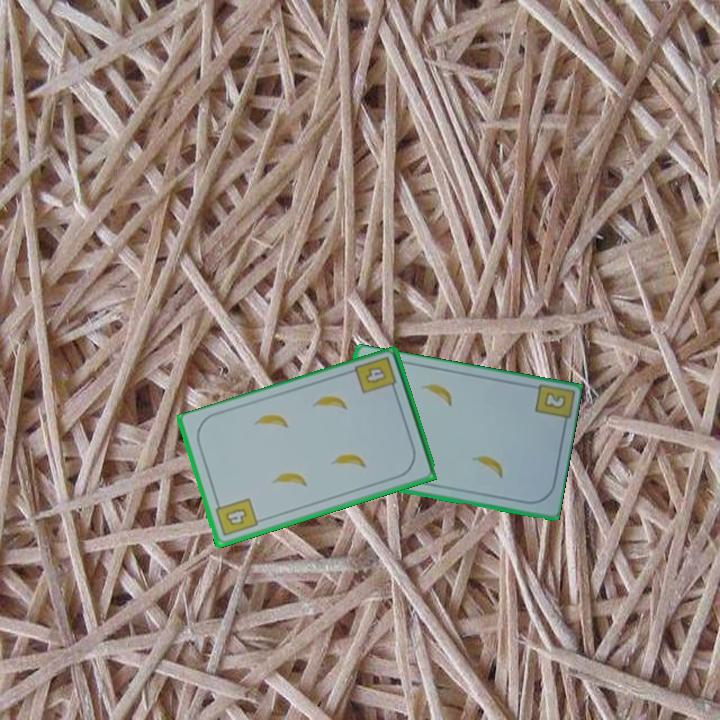2b: (540, 389, 569, 412)
4b: (211, 495, 260, 540), (351, 353, 400, 397)
